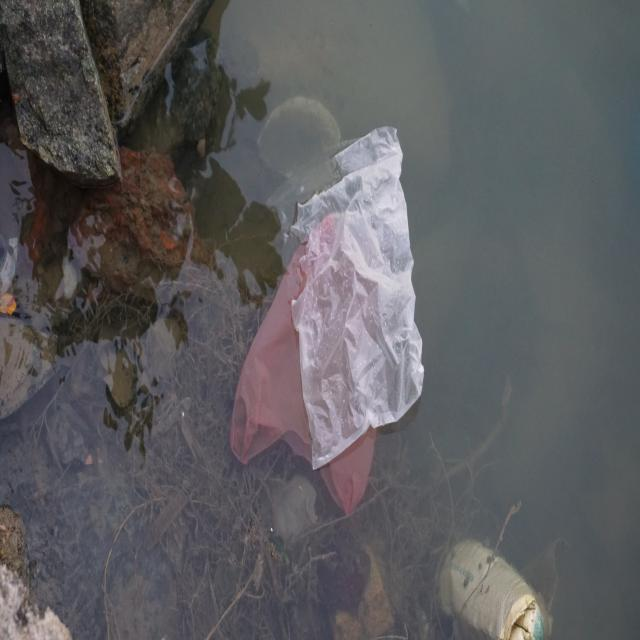Kantong Plastik: (288, 125, 425, 475), (228, 222, 376, 513)
